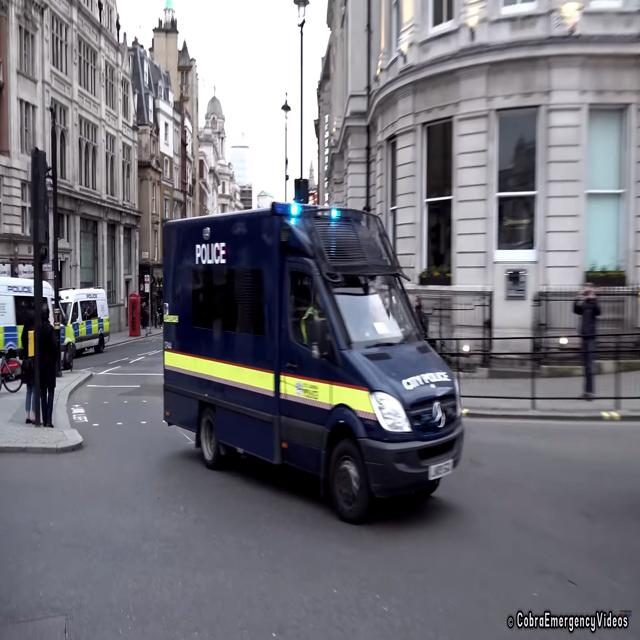emergency-vehicles: (132, 178, 494, 536)
